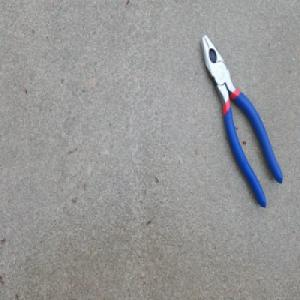Pliers: (198, 33, 283, 210)
